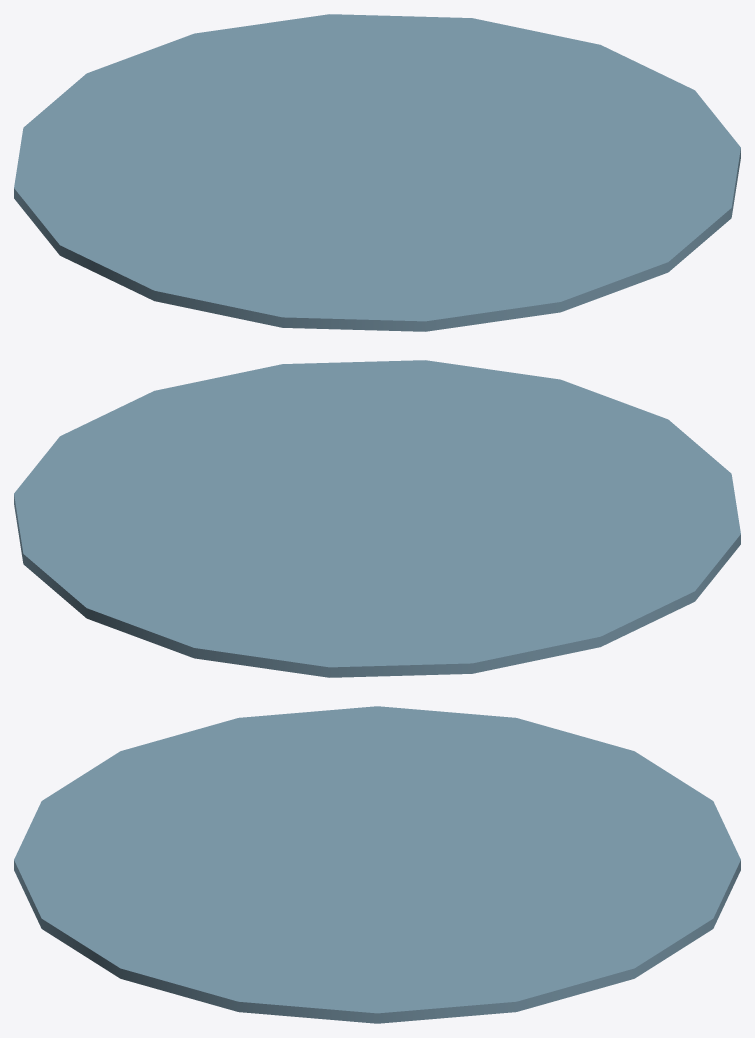
The model's file is Bathroom2_carpet.fbx.
The picture shows the model from 3 angles, top to bottom: view 1: azimuth 30°, elevation 25°; view 2: azimuth 150°, elevation 25°; view 3: azimuth 270°, elevation 25°; orthographic projection.
Visible parts, largest first — view 1: Bathroom2_carpet; view 2: Bathroom2_carpet; view 3: Bathroom2_carpet.
Part boxes in pixels (bbox=[...]): Bathroom2_carpet: bbox=[14, 14, 740, 331]; Bathroom2_carpet: bbox=[14, 360, 740, 677]; Bathroom2_carpet: bbox=[14, 706, 740, 1023].
Bounding box in the file's own units: 252 × 3.96 × 252.
